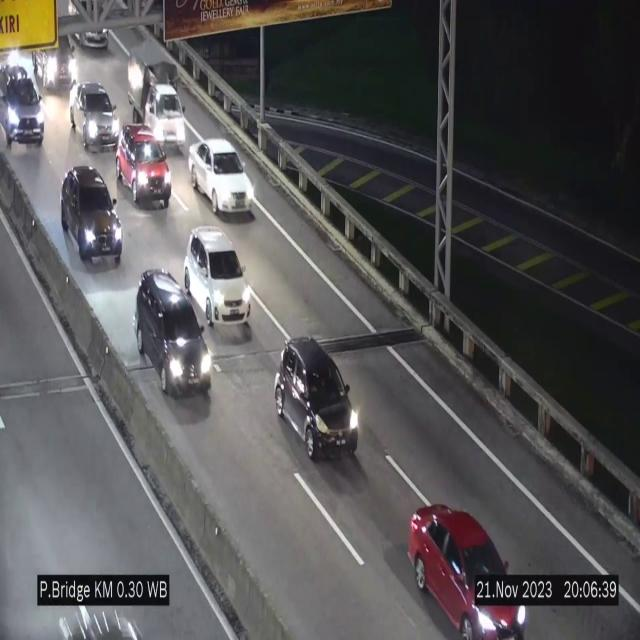Car: (408, 504, 526, 640), (135, 269, 217, 408), (275, 337, 359, 465), (184, 228, 252, 332), (61, 166, 122, 267), (188, 139, 256, 215), (117, 124, 171, 208), (33, 31, 87, 99), (0, 64, 40, 145), (73, 82, 119, 150)
Truck: (124, 42, 187, 158)
